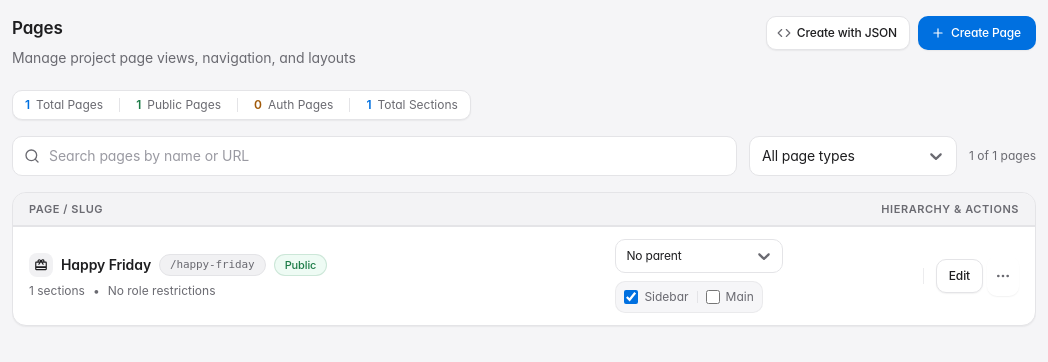
PagesSection designer workspace › finds pages by name or URL and distinguishes no results from an empty project
The width and height of the screenshot is (1048, 362).
Step 1. Type "happy-friday" into the search field labelled "Search pages" → (375, 156), box 12,136 -> 737,176
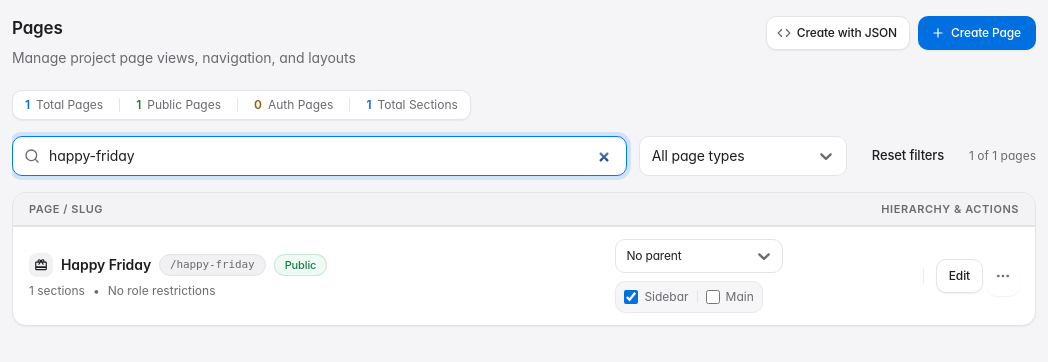
Expected: the button "Edit" is shown, 936,259 -> 983,293
Step 2. Clear the search field named "Search pages" → (319, 156), box 12,136 -> 627,176
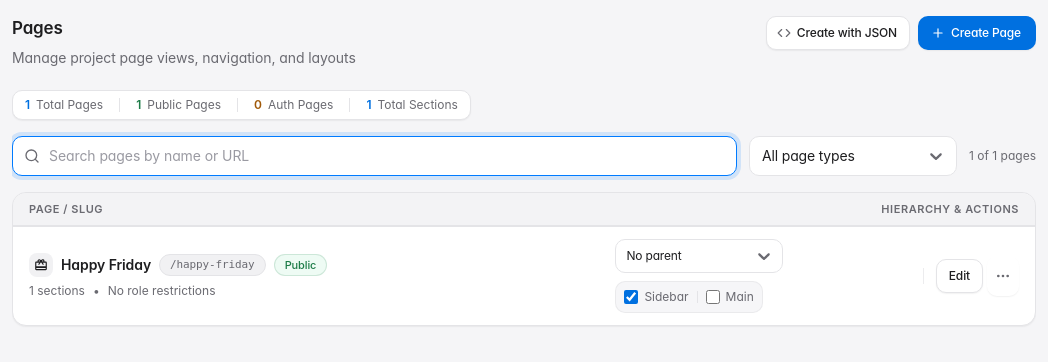
Step 3. Type "missing-page" into the search field labelled "Search pages" → (375, 156), box 12,136 -> 737,176
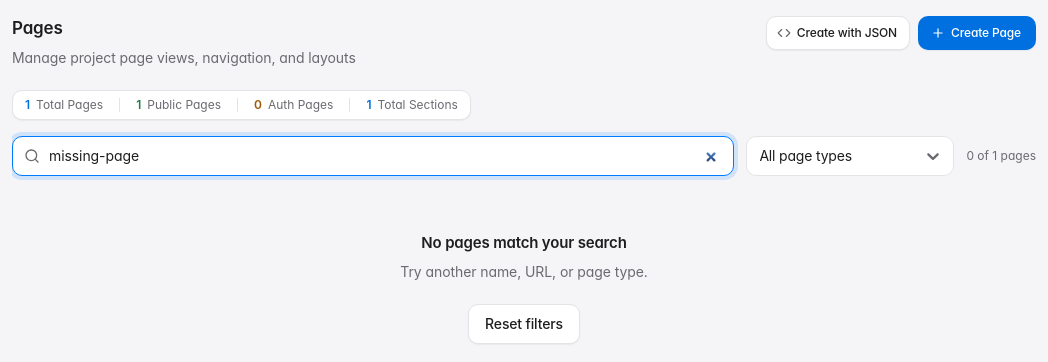
Expected: the button "Edit" is gone
Expected: the message "No pages match your search" is shown, 400,232 -> 648,344
Step 4. Click the button "Reset filters" → (524, 324), box 468,304 -> 580,344
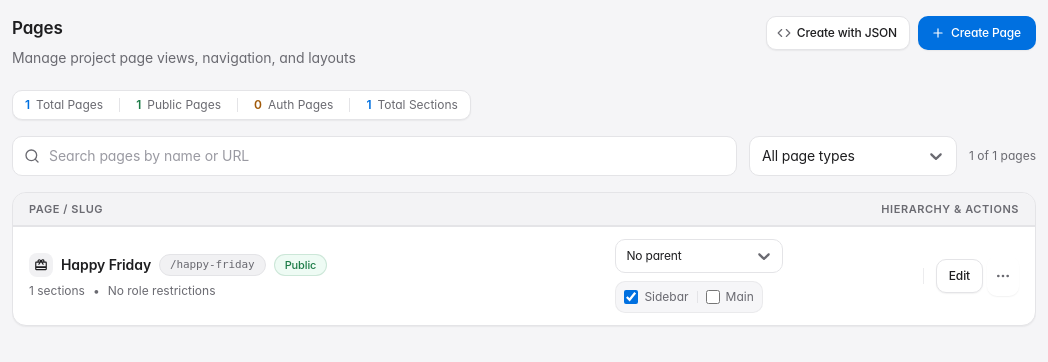
Expected: the button "Edit" is shown, 936,259 -> 983,293
